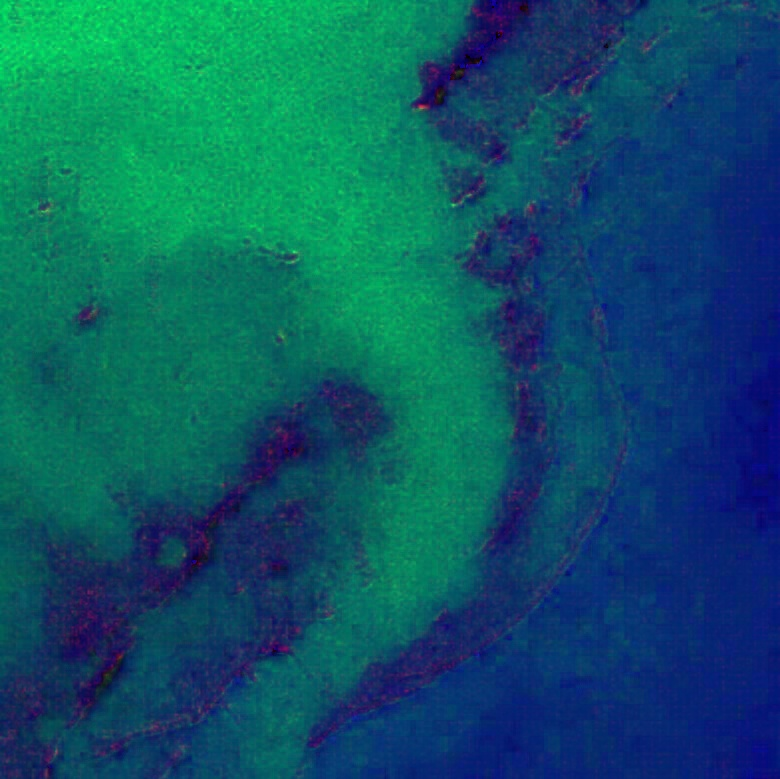rip_current: (238, 174, 542, 631)
